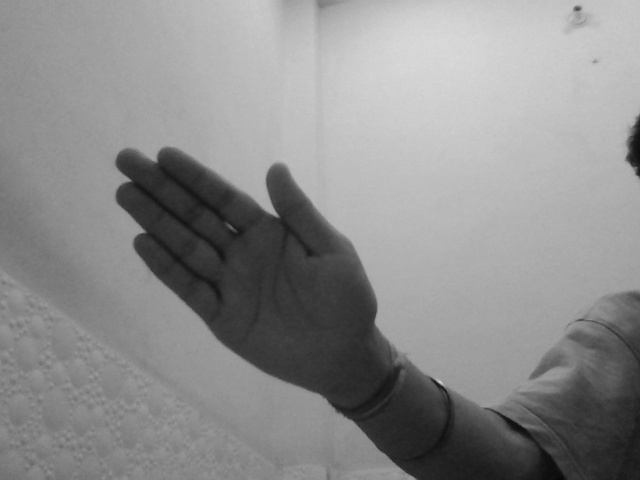Hello: (110, 144, 383, 385)
